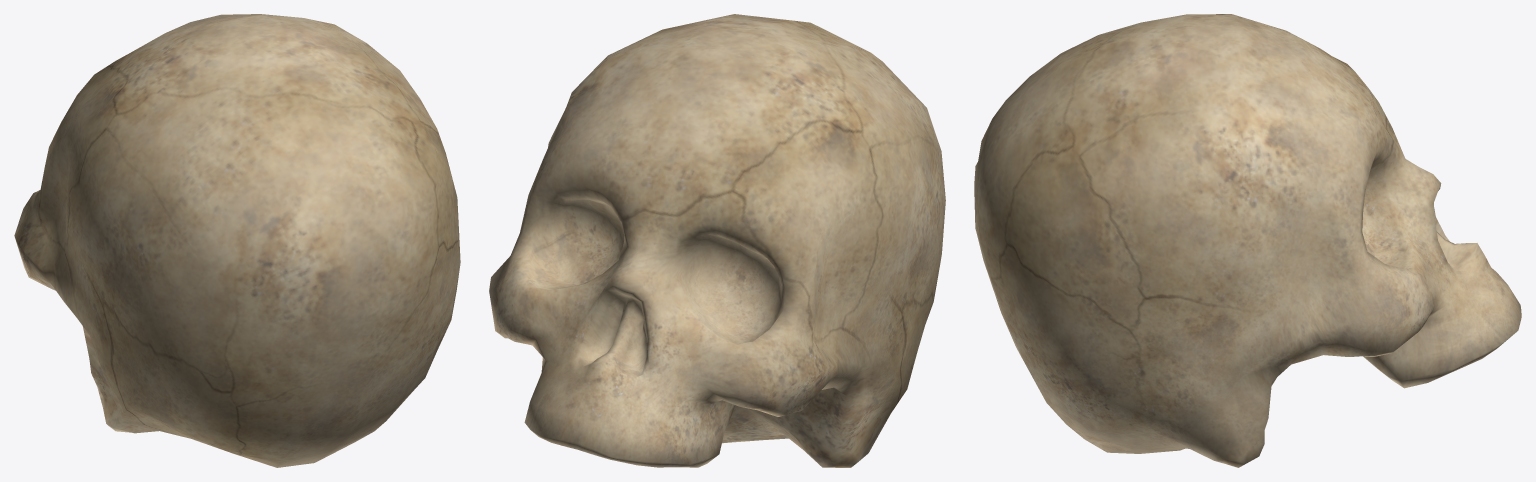
Rendered from skull.glb.
3 views of the same model, side by side, from view 1: azimuth 30°, elevation 25°; view 2: azimuth 150°, elevation 25°; view 3: azimuth 270°, elevation 25° (orthographic). The views are drawn at different scales.
Visible parts, largest first — view 1: retopologia__0; view 2: retopologia__0; view 3: retopologia__0.
Boxes of the visible parts, <box> form: retopologia__0: <box>14,14,460,467</box>; retopologia__0: <box>489,14,945,467</box>; retopologia__0: <box>974,14,1521,467</box>.
Bounding box in the file's own units: 0.5077 × 0.5944 × 0.7226.
Materials: 1 (1 with a texture image).
